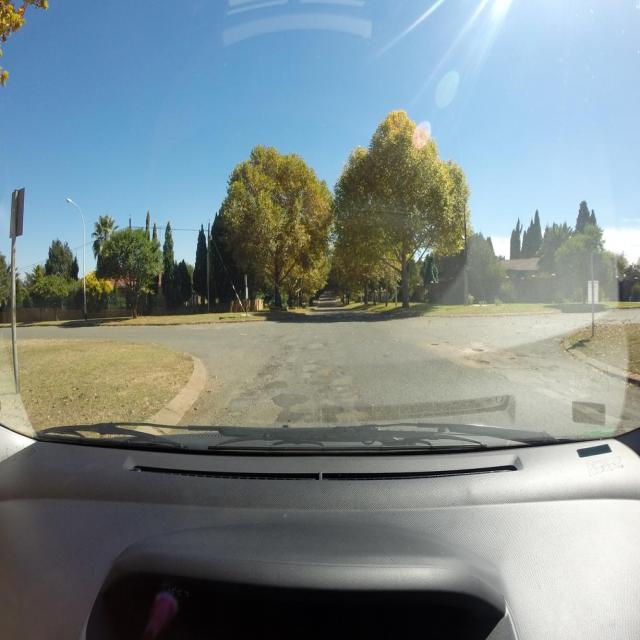Pothole: (244, 362, 278, 398), (476, 360, 491, 364), (322, 370, 331, 376), (471, 348, 484, 352), (442, 341, 450, 344), (507, 358, 515, 360), (430, 344, 438, 346)
